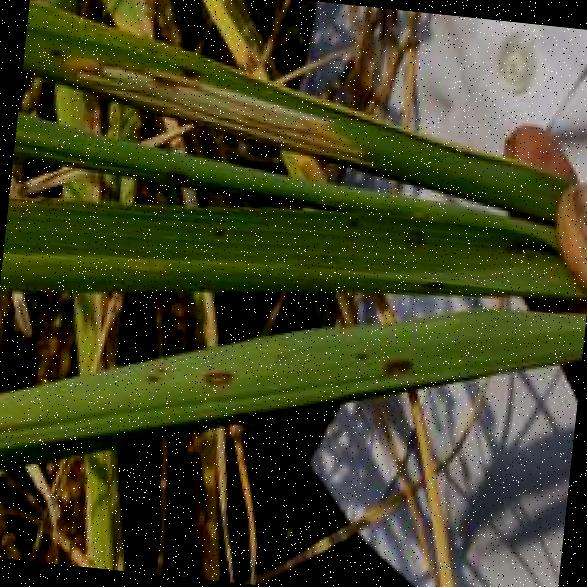Brown_Spot: (192, 360, 254, 392), (372, 347, 427, 378), (134, 356, 170, 383), (161, 161, 198, 186), (402, 220, 430, 250), (36, 35, 68, 59), (205, 216, 230, 237)
